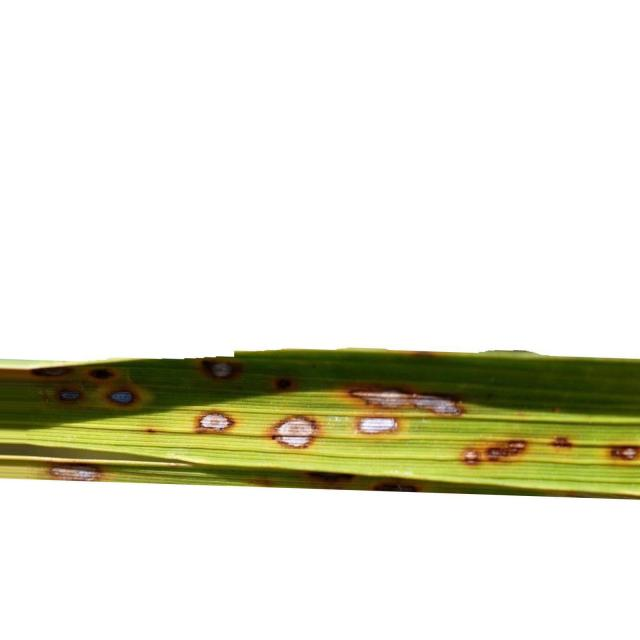Brown_Spot: (350, 390, 462, 414), (460, 439, 529, 465), (272, 416, 318, 448), (49, 465, 102, 481), (198, 412, 235, 431), (359, 418, 398, 434), (610, 445, 640, 460), (210, 362, 234, 379), (31, 366, 70, 376), (109, 390, 134, 404), (274, 378, 296, 391), (551, 436, 572, 448), (59, 390, 80, 401), (90, 369, 112, 379), (146, 429, 158, 434)
